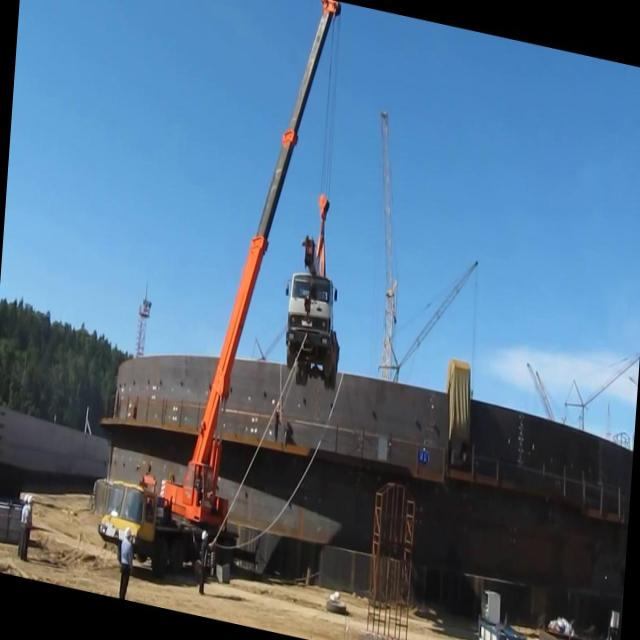crane: (95, 0, 345, 609)
